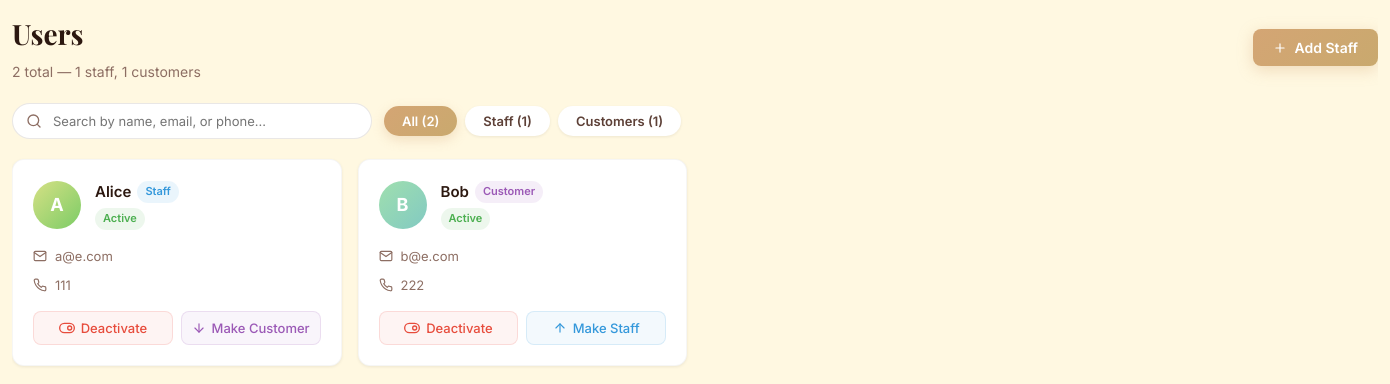
Test: filters by role tab
Check: the text "Alice" is shown, box [95,180,131,204]
Click the button "Customers (1)". click: {"x": 620, "y": 121}
box: [558,106,681,136]
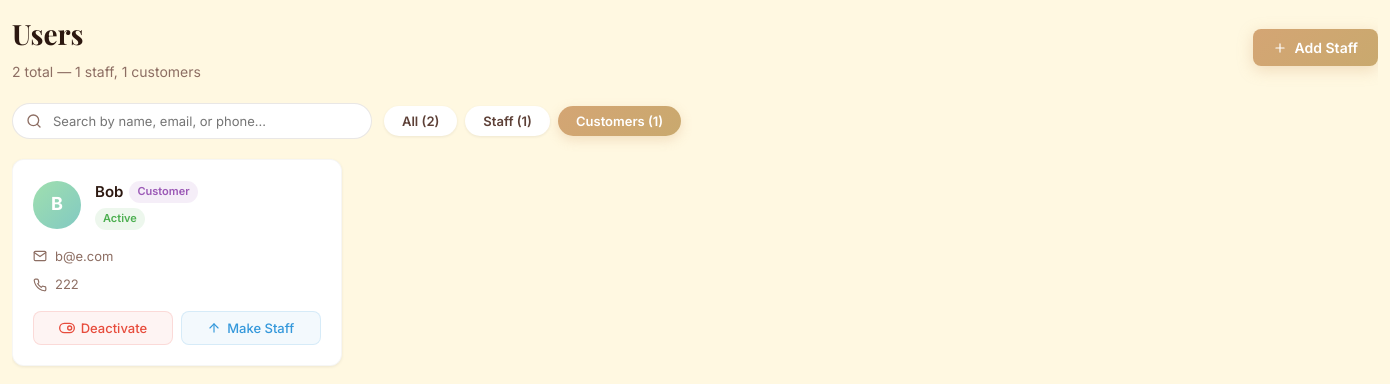
Check: the text "Bob" is shown, box [95,180,123,204]
Check: the text "Alice" is gone
